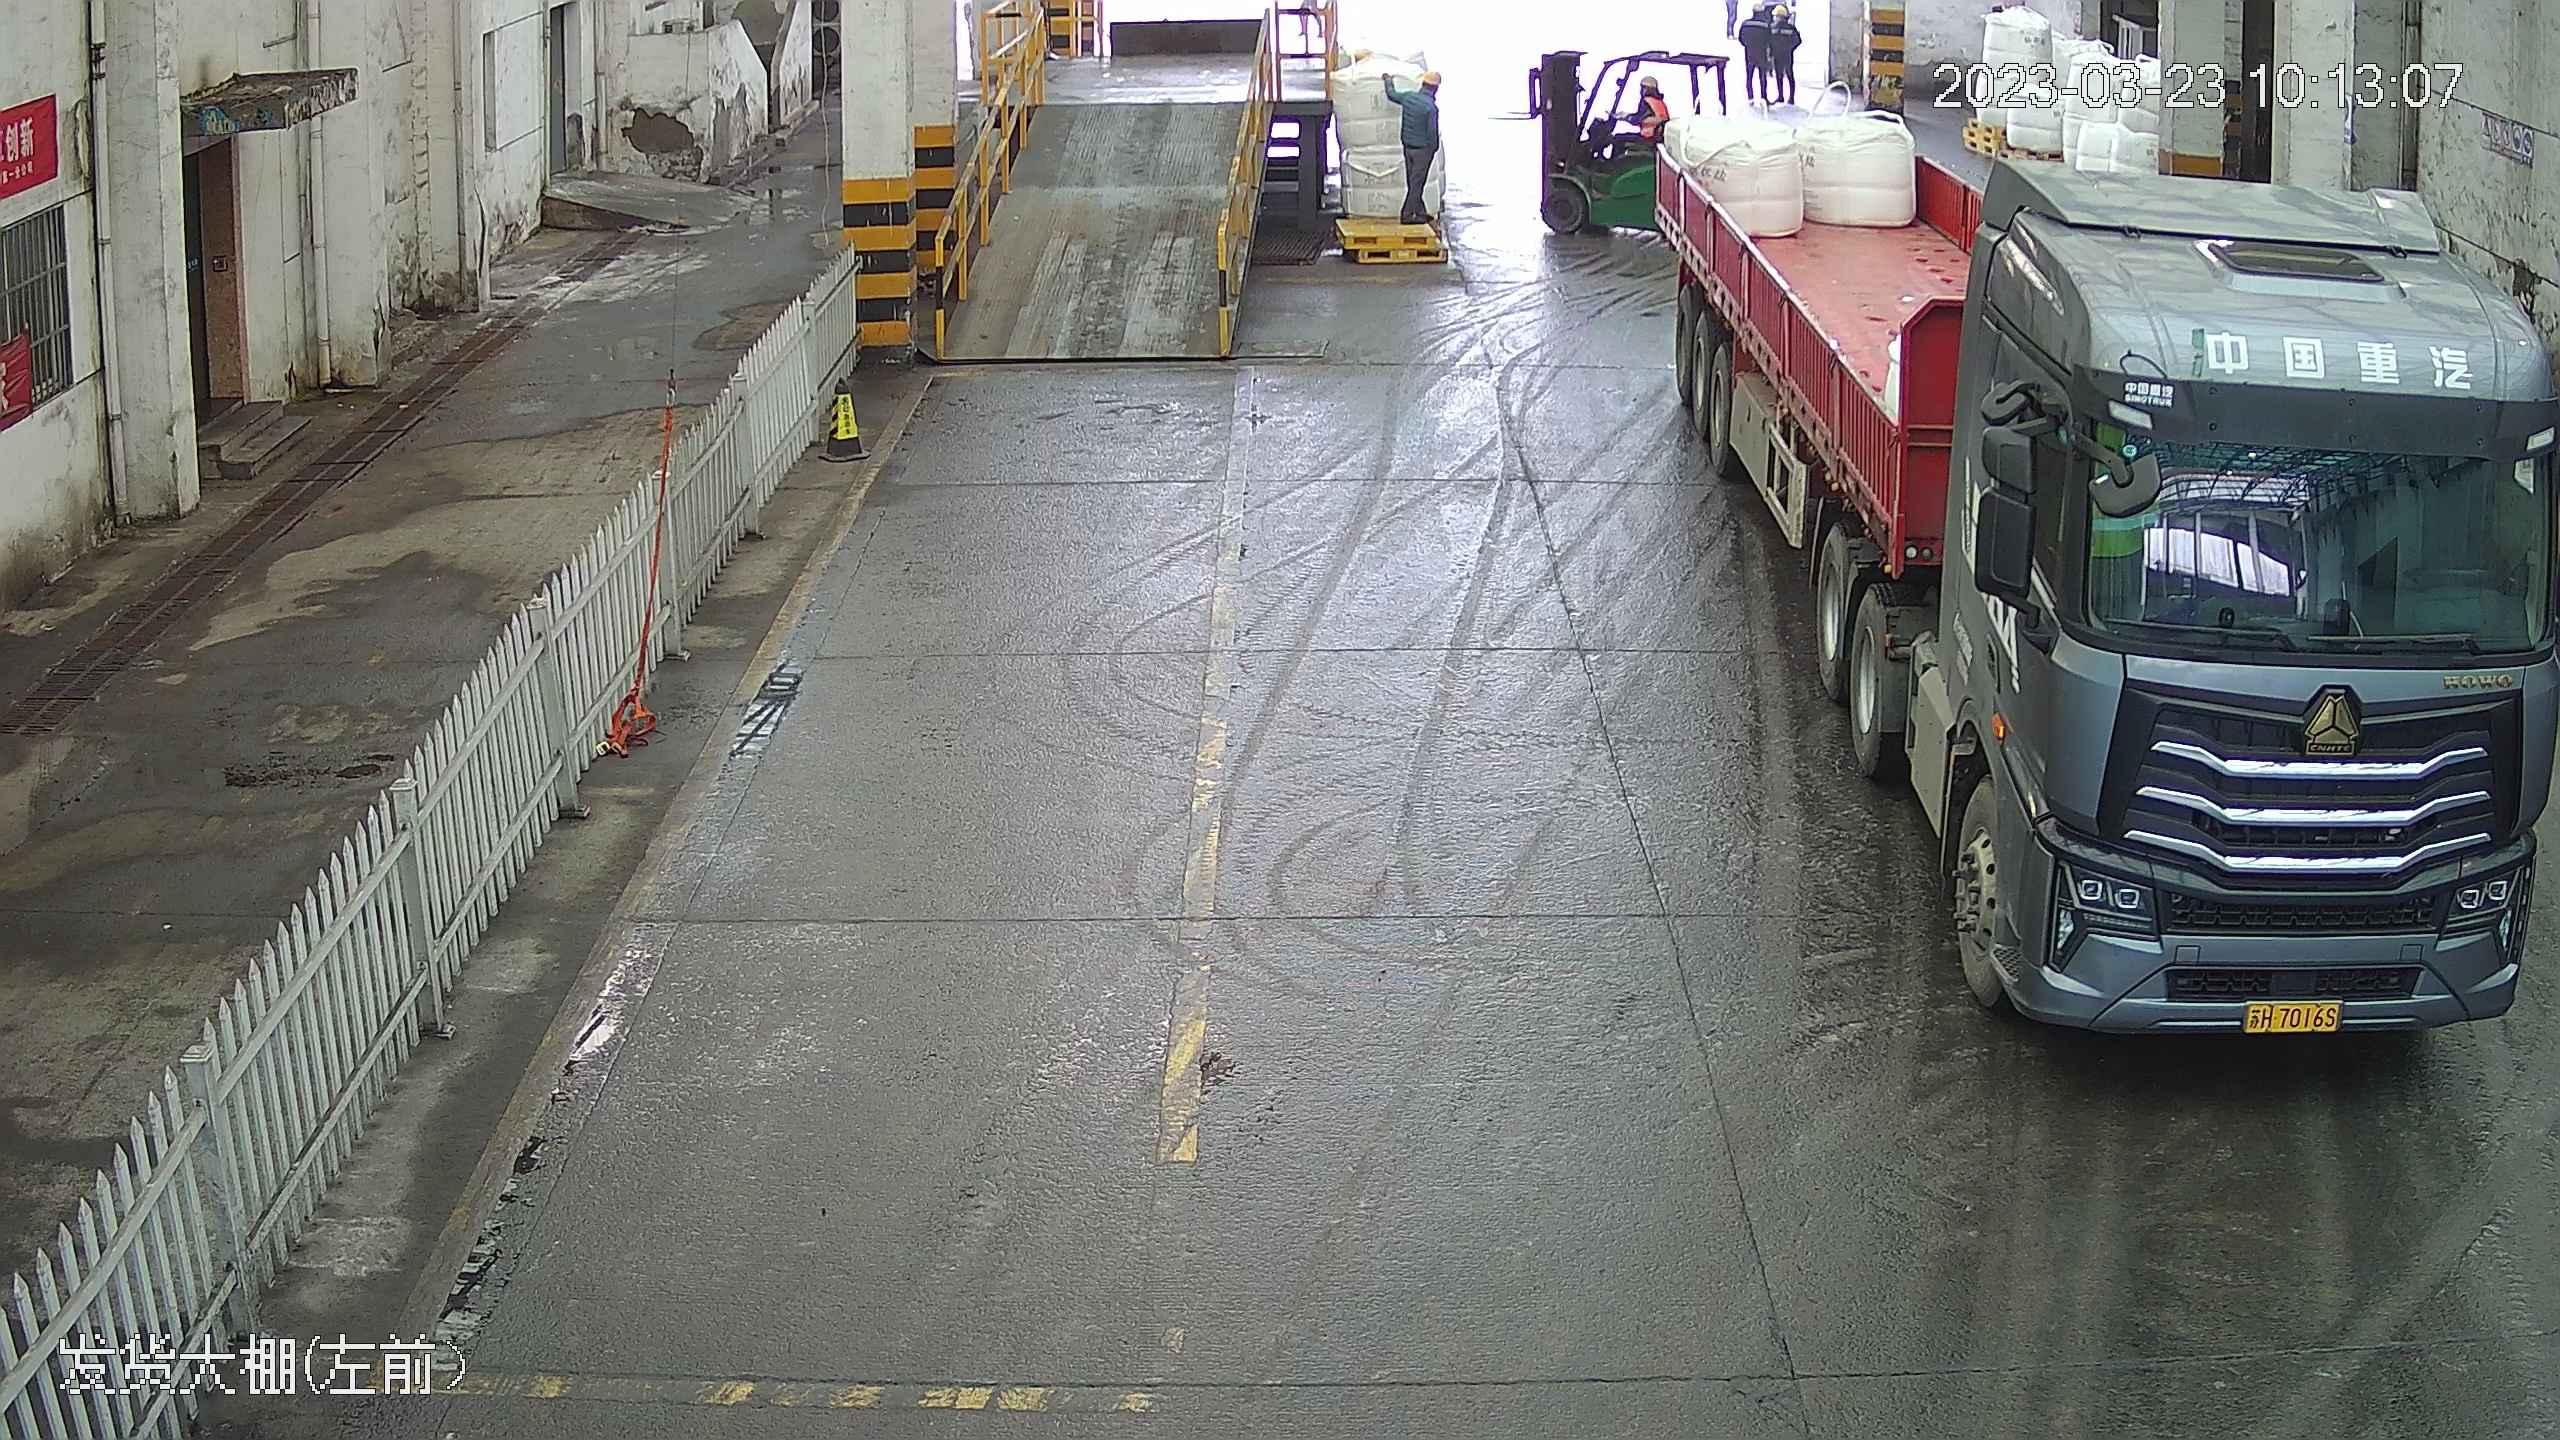head: (1409, 65, 1446, 113), (1632, 75, 1668, 117), (1771, 4, 1799, 44), (1741, 3, 1771, 38)
helmet: (1417, 64, 1439, 85), (1638, 76, 1661, 92), (1771, 4, 1788, 18), (1750, 3, 1766, 14)
people: (1398, 60, 1448, 221), (1622, 67, 1670, 145), (1765, 4, 1801, 106), (1738, 1, 1772, 104)
truck: (1640, 67, 2550, 1068)
